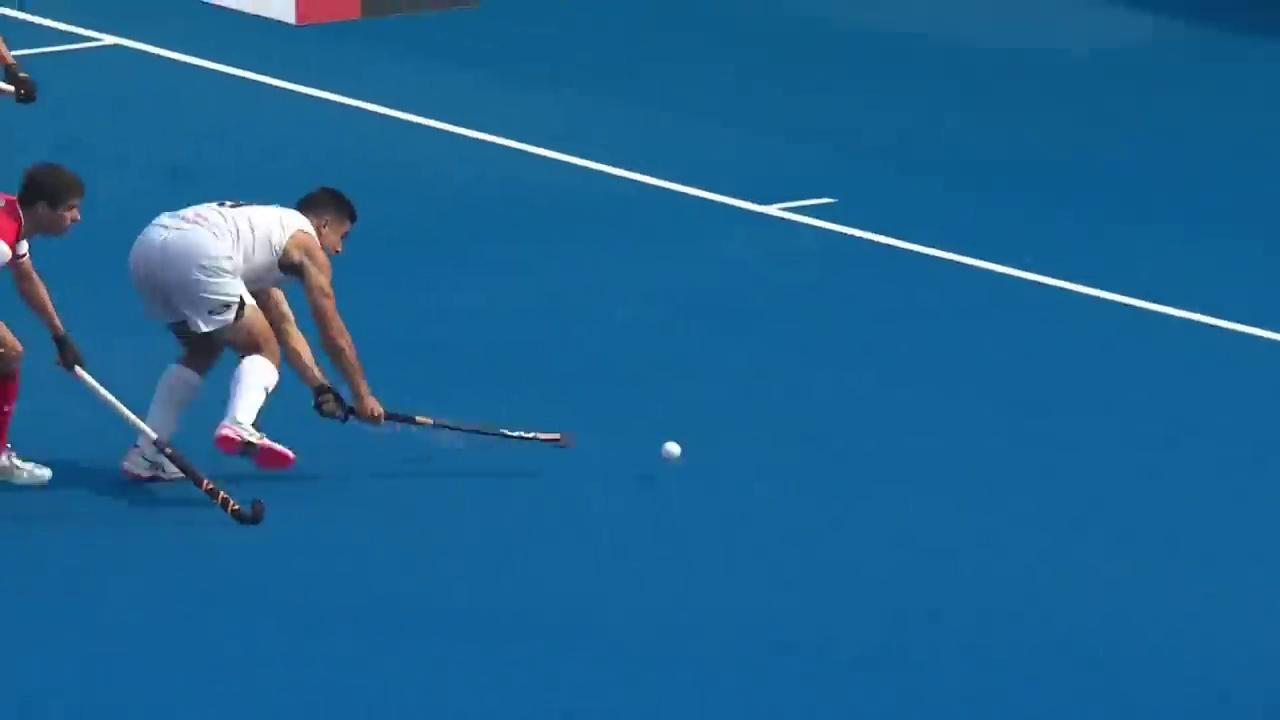ball: (650, 427, 689, 475)
